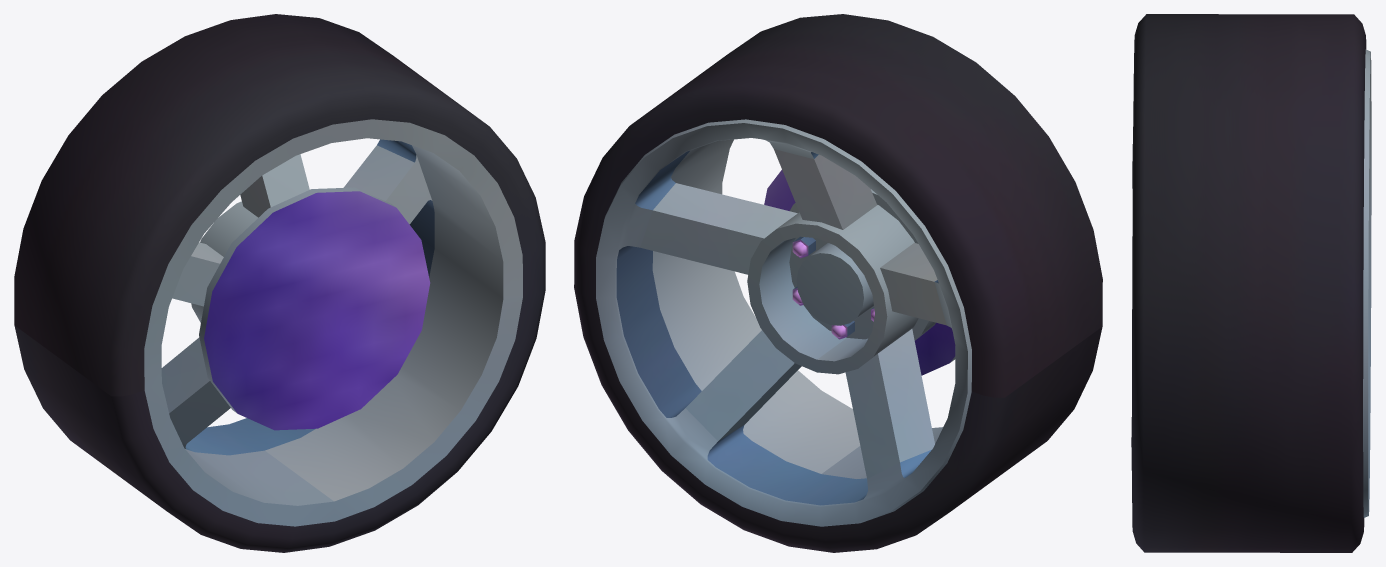
The model's file is CocheLlantaTraseraIzquierda.obj.
3 views of the same model, side by side, from view 1: azimuth 30°, elevation 25°; view 2: azimuth 150°, elevation 25°; view 3: azimuth 270°, elevation 25° (orthographic). The views are drawn at different scales.
Visible parts, largest first — view 1: LlantaTraseraIzquierda; view 2: LlantaTraseraIzquierda; view 3: LlantaTraseraIzquierda.
Boxes of the visible parts, box(x1,y1,x2,y2) form: LlantaTraseraIzquierda: box(14, 14, 545, 552); LlantaTraseraIzquierda: box(574, 14, 1102, 552); LlantaTraseraIzquierda: box(1131, 14, 1371, 552).
Size of the model in its own units: 4.63 by 4.65 by 2.07.
